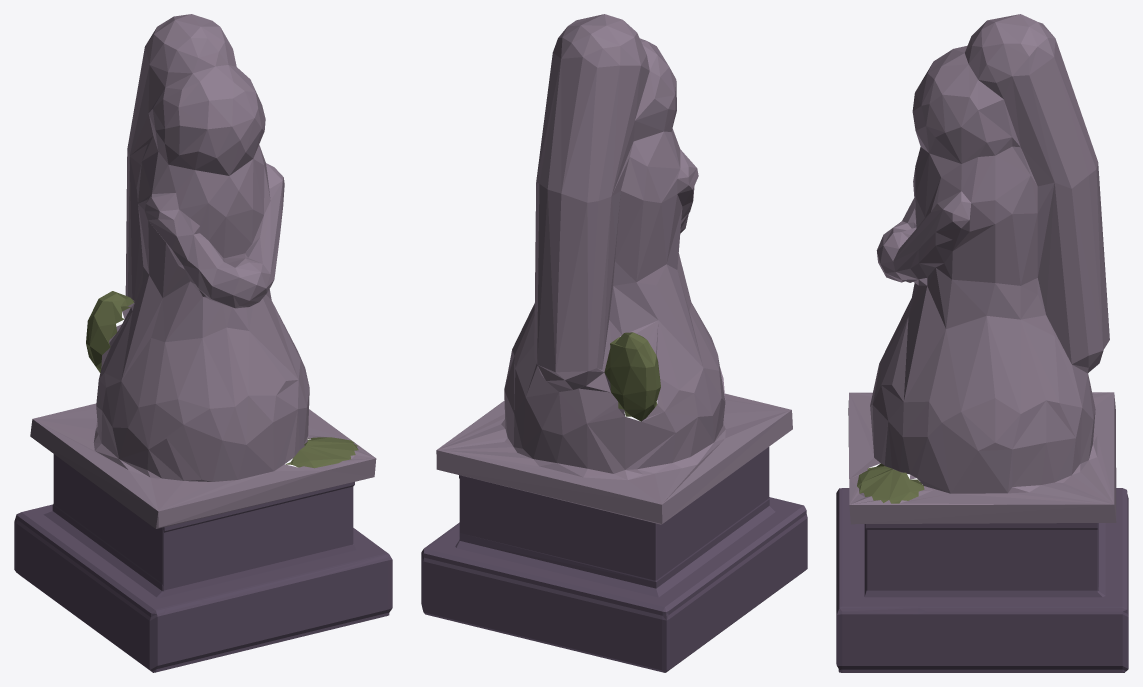
File: statue_mourner.glb
3 renders of one model, left to right at view 1: azimuth 30°, elevation 25°; view 2: azimuth 150°, elevation 25°; view 3: azimuth 270°, elevation 25°, orthographic. The views are drawn at different scales.
Parts seen in each view (by area): view 1: statue_mourner; view 2: statue_mourner; view 3: statue_mourner.
Boxes of the visible parts, left/top/right/bottom form: statue_mourner: left=14, top=14, right=392, bottom=672; statue_mourner: left=421, top=14, right=807, bottom=672; statue_mourner: left=836, top=14, right=1128, bottom=672.
Size of the model in its own units: 0.96 by 2.15 by 0.96.
